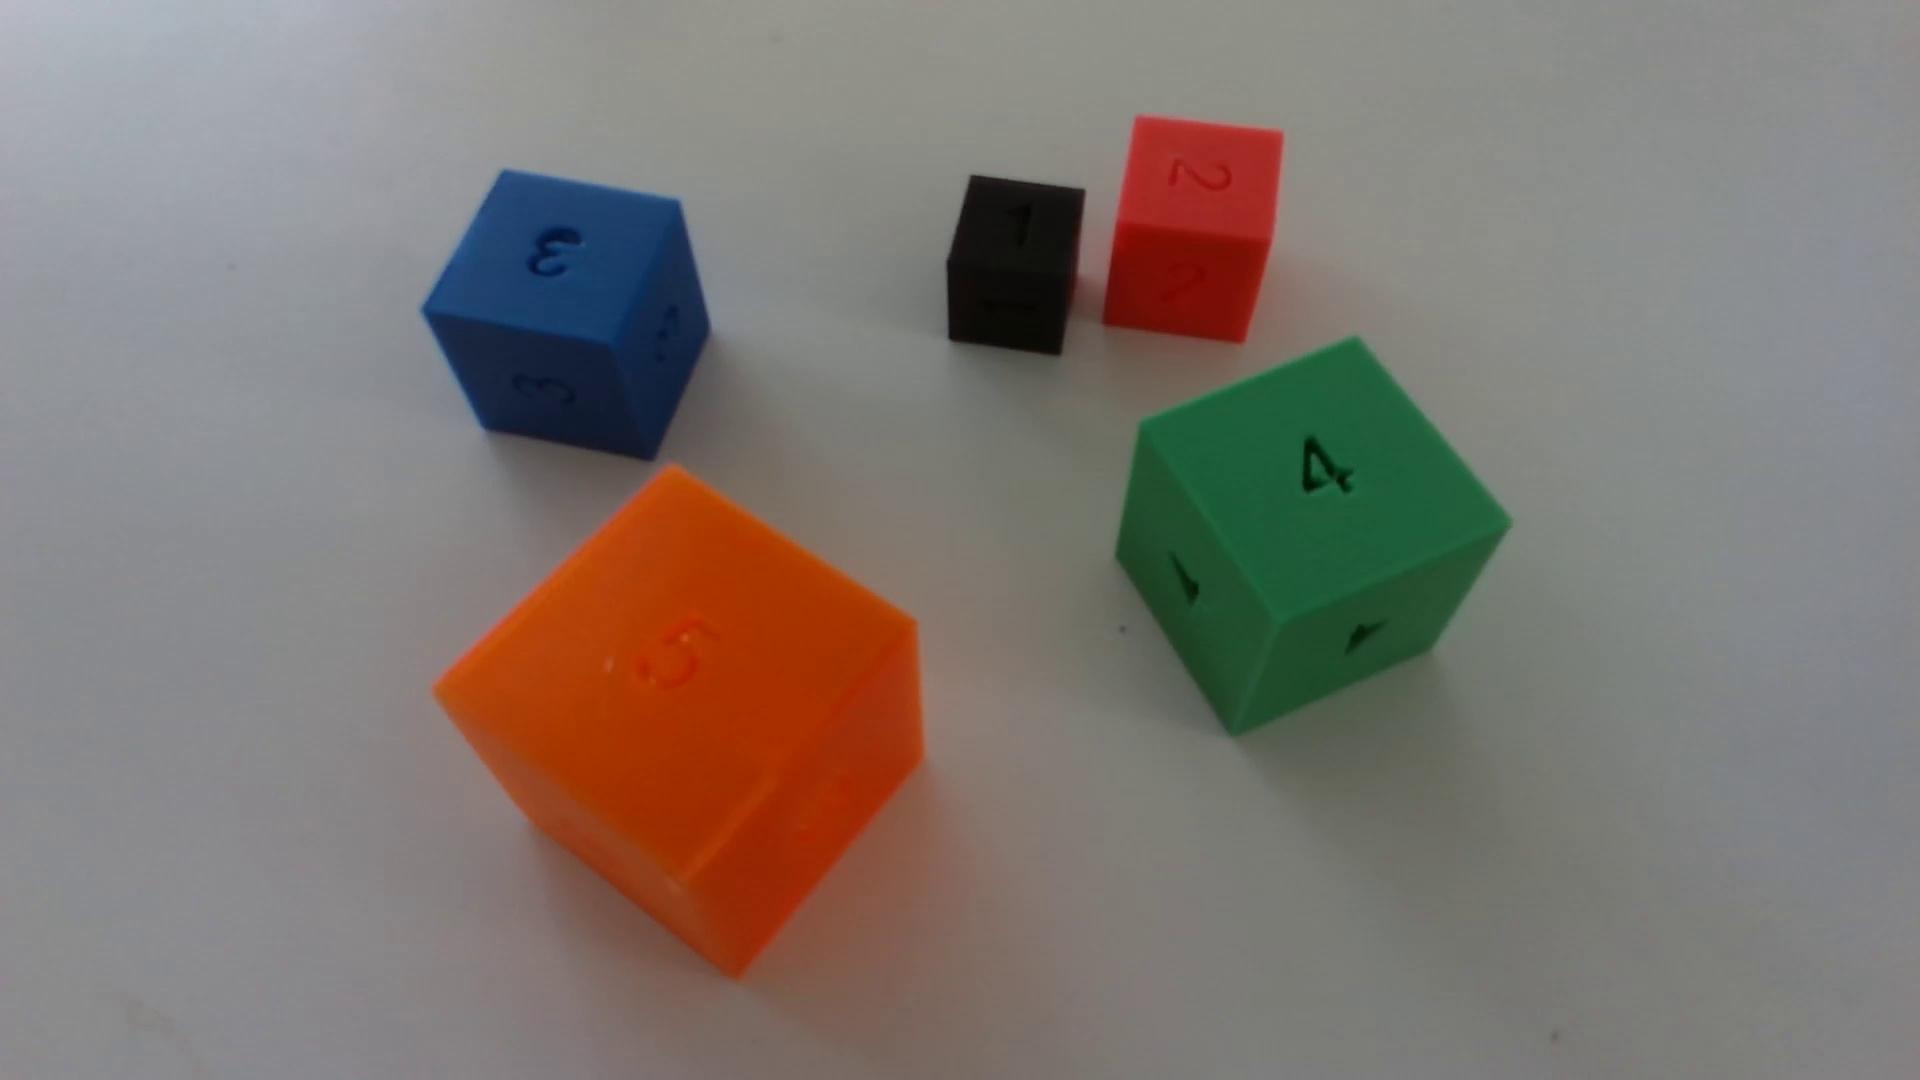black: (945, 175, 1084, 357)
blue: (422, 171, 709, 462)
green: (1116, 339, 1509, 735)
orange: (434, 468, 924, 976)
red: (1102, 116, 1283, 344)
